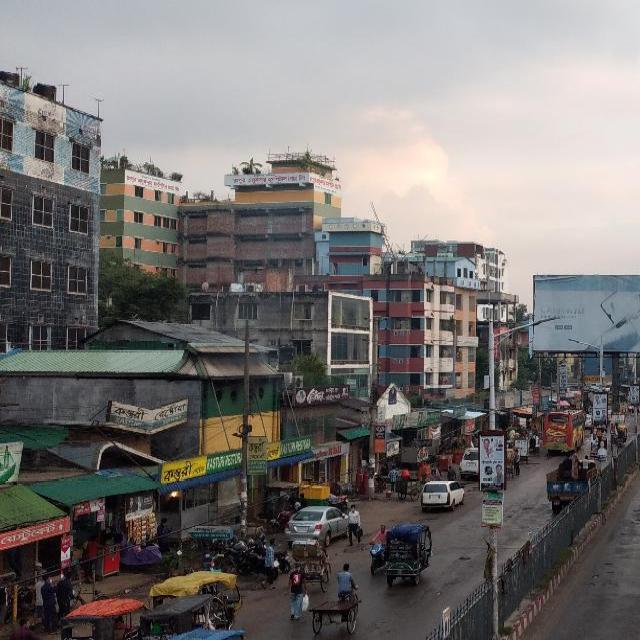10: (235, 546, 278, 577), (258, 543, 290, 571), (263, 504, 289, 530), (368, 540, 386, 572), (330, 494, 348, 509)
13: (290, 540, 330, 592), (506, 448, 514, 476)
18: (545, 457, 593, 510)
19: (458, 446, 480, 477)
5: (284, 504, 350, 545), (421, 477, 463, 509), (586, 414, 592, 426)
Car: (140, 594, 234, 634), (152, 570, 242, 610), (60, 594, 144, 634), (386, 521, 430, 582), (618, 422, 626, 444)
Motorcycle: (65, 586, 108, 608), (188, 554, 236, 572), (329, 481, 357, 495)
Truck: (542, 408, 584, 453), (607, 392, 627, 412)
